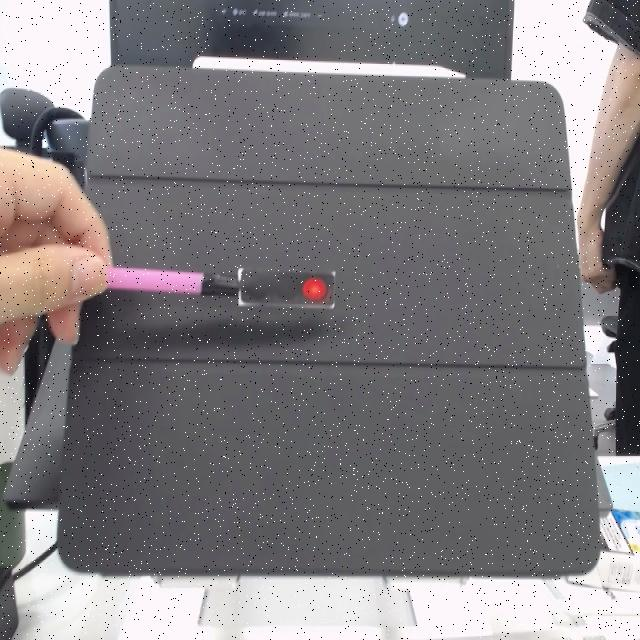traffic light: (238, 268, 335, 309)
